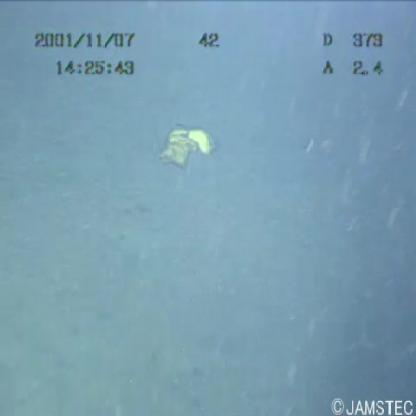Rác: (141, 106, 216, 178)
